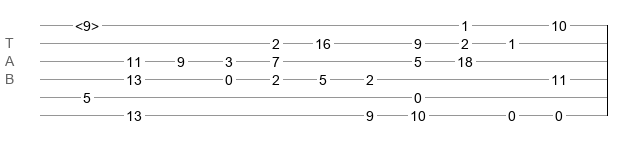0: (225, 72, 233, 82), (414, 90, 422, 100), (508, 108, 516, 118), (555, 108, 563, 118)
1: (461, 18, 469, 28), (508, 36, 516, 46)
10: (410, 108, 426, 118), (551, 18, 567, 28)
11: (126, 54, 142, 64), (551, 72, 567, 82)
13: (126, 108, 142, 118), (126, 72, 142, 82)
16: (315, 36, 331, 46)
18: (457, 54, 473, 64)
2: (272, 36, 280, 46), (272, 72, 280, 82), (366, 72, 374, 82), (461, 36, 469, 46)
3: (225, 54, 233, 64)
5: (83, 90, 91, 100), (319, 72, 327, 82), (414, 54, 422, 64)
7: (272, 54, 280, 64)
9: (177, 54, 185, 64), (366, 108, 374, 118), (414, 36, 422, 46)
harmonic: (75, 18, 99, 28)
